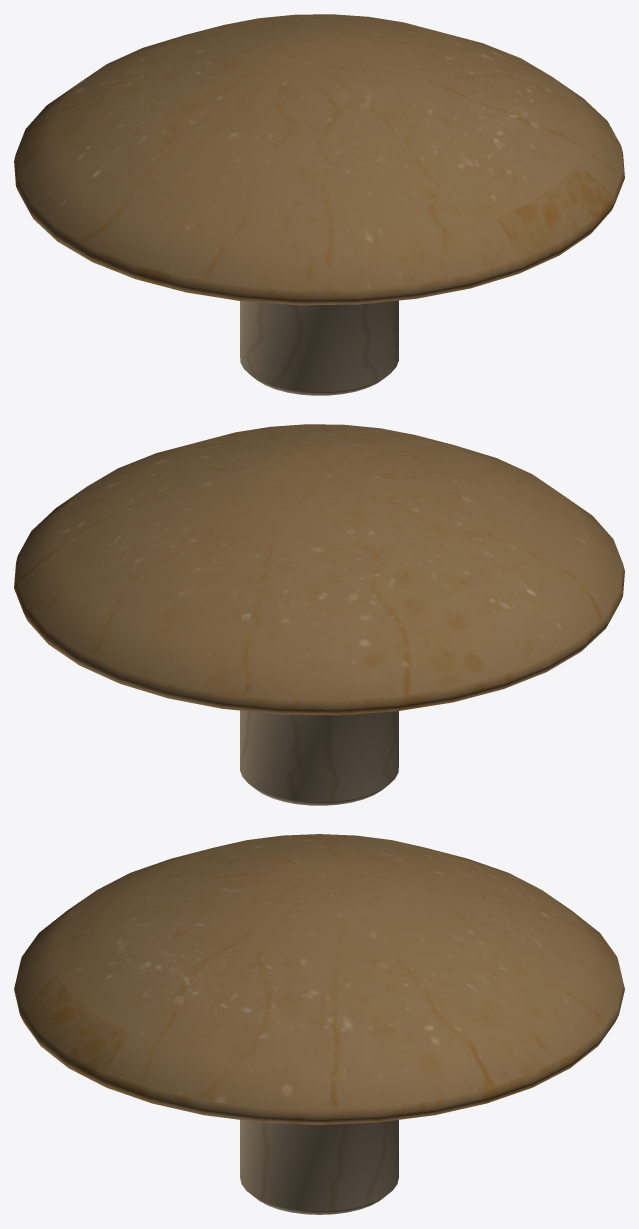
Rendered from mushroom.fbx.
The picture shows the model from 3 angles, top to bottom: view 1: azimuth 30°, elevation 25°; view 2: azimuth 150°, elevation 25°; view 3: azimuth 270°, elevation 25°; orthographic projection.
Visible parts, largest first — view 1: Cylinder; view 2: Cylinder; view 3: Cylinder.
Boxes of the visible parts, box(x1,y1,x2,y2) form: Cylinder: box(14, 14, 624, 395); Cylinder: box(14, 424, 624, 805); Cylinder: box(14, 834, 624, 1214).
Bounding box in the file's own units: 188 × 103 × 188.
